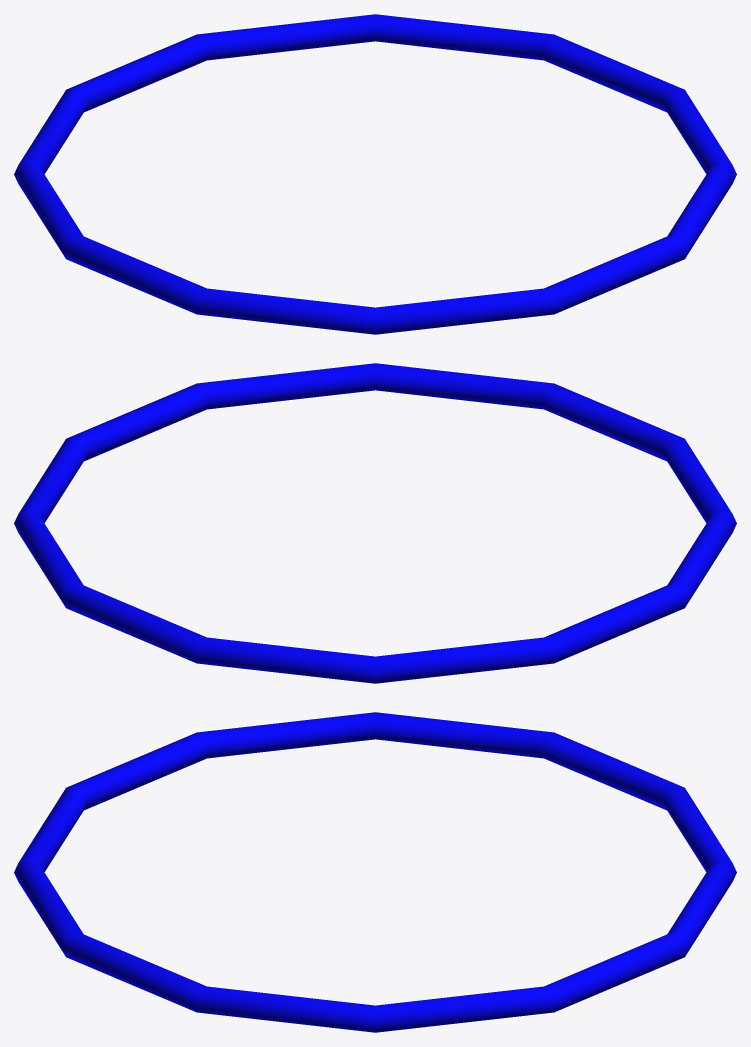
Rendered from RingY.obj.
3 views of the same model, one above another, from view 1: azimuth 30°, elevation 25°; view 2: azimuth 150°, elevation 25°; view 3: azimuth 270°, elevation 25° (orthographic).
Visible parts, largest first — view 1: RotY; view 2: RotY; view 3: RotY.
Part boxes in pixels (x1=…): RotY: x1=14, y1=14, x2=736, y2=334; RotY: x1=14, y1=363, x2=736, y2=683; RotY: x1=14, y1=712, x2=736, y2=1032.
Bounding box in the file's own units: 2.5 × 0.1 × 2.5.
